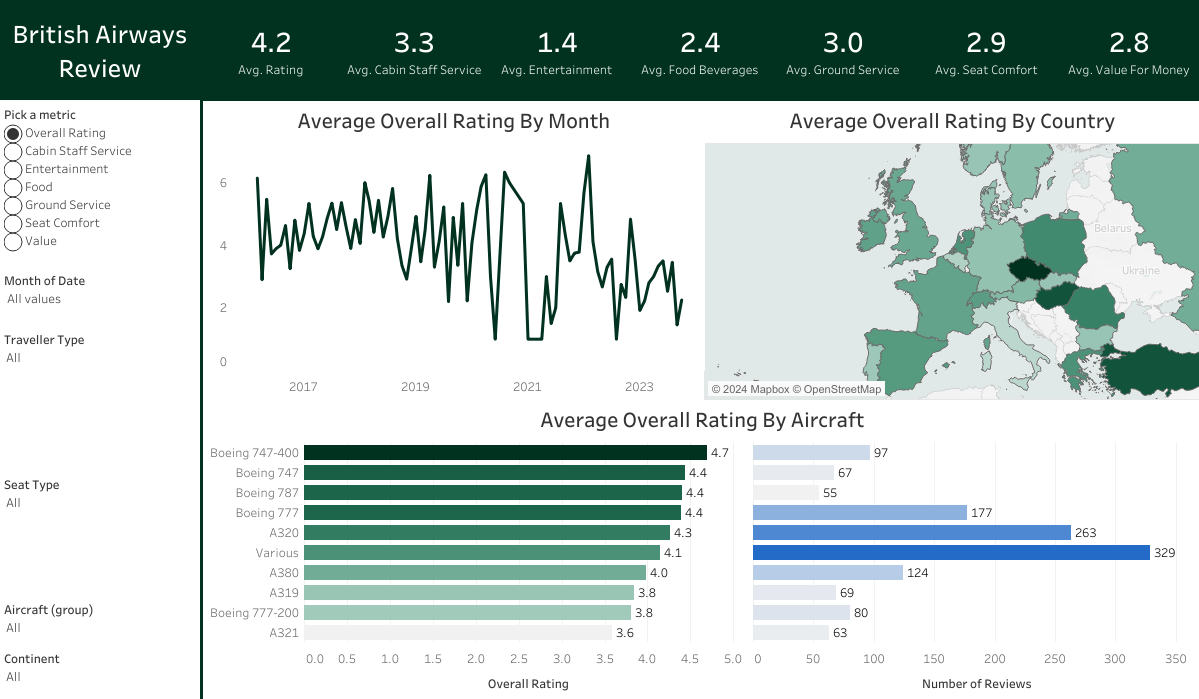

The page's visual inventory and layout, read from the dashboard file:
{"tool":"tableau","page":{"name":"Dashboard 1","canvas":[1200,700],"ordinal":0},"visuals":[{"type":"text","box":[0,0,200,100]},{"type":"worksheet","title":"Summary","mark":"Automatic","box":[200,0,1001,100]},{"type":"parameter","param":"[Parameters].[Parameter 1]","box":[0,100,200,166]},{"type":"worksheet","title":"Month","mark":"Automatic","rows":["Calculation_745627221744136192"],"cols":["date"],"box":[204,100,500,300]},{"type":"worksheet","title":"Map","mark":"Automatic","box":[704,100,497,300]},{"type":"filter","title":"Map","param":"[federated.01n4hwz1t8digk13c26pw14motht].[tmn:date:qk]","box":[0,266,200,69]},{"type":"filter","title":"Map","param":"[federated.01n4hwz1t8digk13c26pw14motht].[none:traveller_type:nk]","box":[0,335,200,145]},{"type":"worksheet","title":"Aircraft","mark":"Automatic","cols":["Calculation_745627221744136192","ba_reviews.csv_12D005D81D0B4700A2679F66F3E3A610"],"box":[204,399,997,300]},{"type":"filter","title":"Map","param":"[federated.01n4hwz1t8digk13c26pw14motht].[none:seat_type:nk]","box":[0,480,200,125]},{"type":"filter","title":"Map","param":"[federated.01n4hwz1t8digk13c26pw14motht].[Aircraft (group)]","box":[0,605,200,49]}]}

Visuals, with their boxes in screenshot pixels (x1, y1, x2, y2), scaled from the page's 1200x700 canvas onto the 1199x699 screenshot:
text: locate(0, 0, 200, 100)
"Summary" worksheet: locate(200, 0, 1198, 100)
parameter: locate(0, 100, 200, 266)
"Month" worksheet: locate(204, 100, 703, 399)
"Map" worksheet: locate(703, 100, 1198, 399)
"Map" filter: locate(0, 266, 200, 335)
"Map" filter: locate(0, 335, 200, 479)
"Aircraft" worksheet: locate(204, 398, 1198, 698)
"Map" filter: locate(0, 479, 200, 604)
"Map" filter: locate(0, 604, 200, 653)
